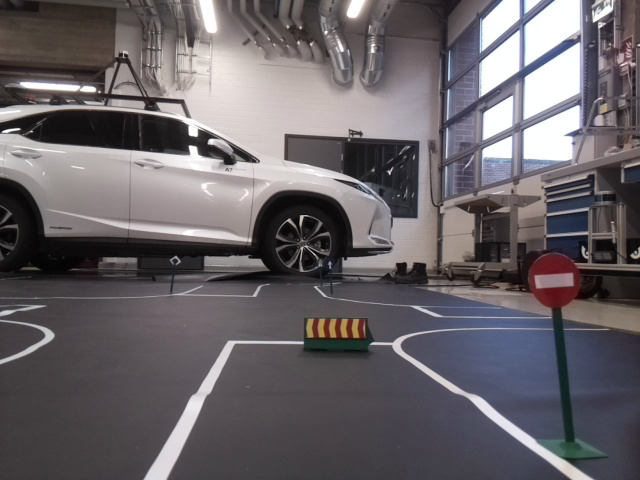ClosedRoadStand: (301, 316, 368, 341)
NoEntry: (526, 252, 583, 309)
